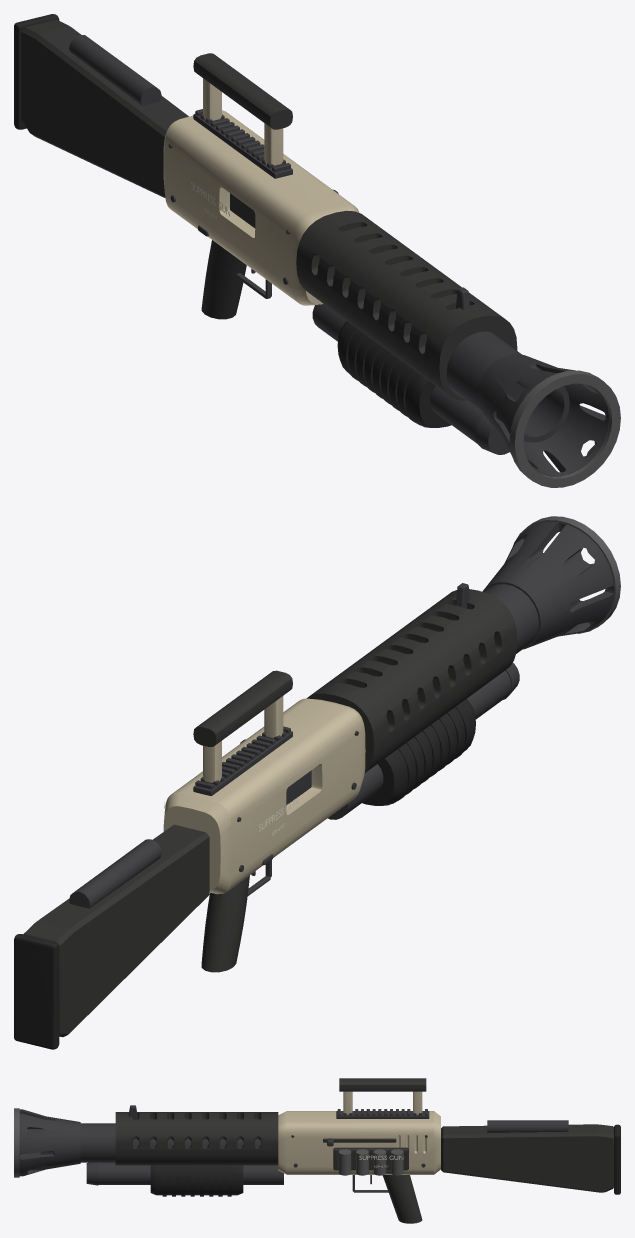
File: suppressgun.glb
3 renders of one model, top to bottom at view 1: azimuth 30°, elevation 25°; view 2: azimuth 150°, elevation 25°; view 3: azimuth 270°, elevation 25°, orthographic. The views are drawn at different scales.
Visible parts, largest first — view 1: Body; view 2: Body; view 3: Body.
Boxes of the visible parts, x1,y1,x2,y2 form: Body: (14, 14, 620, 487); Body: (14, 516, 620, 1049); Body: (14, 1078, 620, 1223).
Bounding box in the file's own units: 0.1291 × 0.266 × 1.05.
